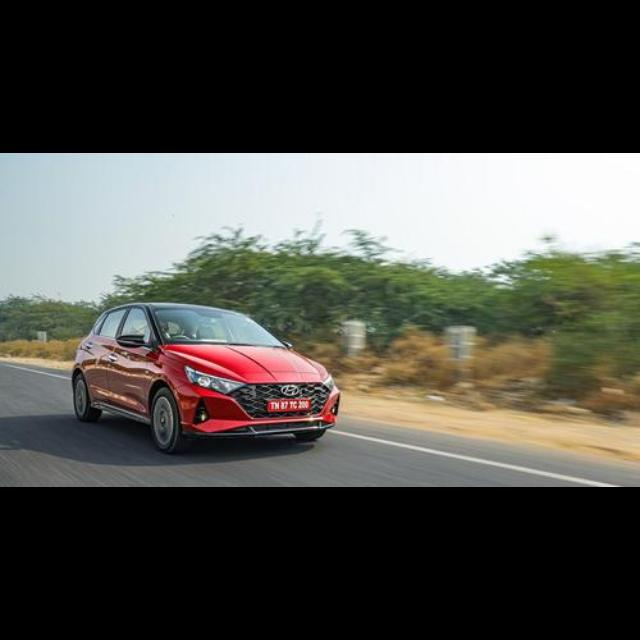vehicles: (64, 298, 344, 454)
